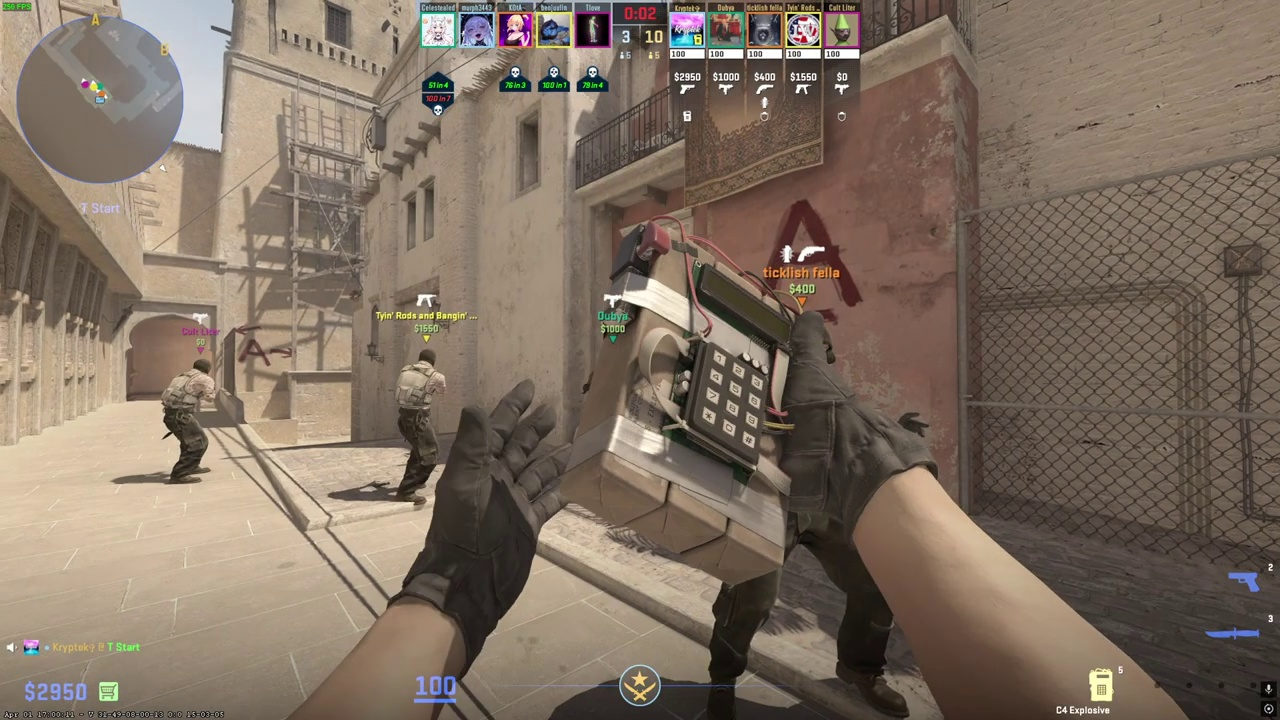Terrorist: (703, 326, 924, 720), (395, 348, 446, 505), (161, 359, 216, 484)
